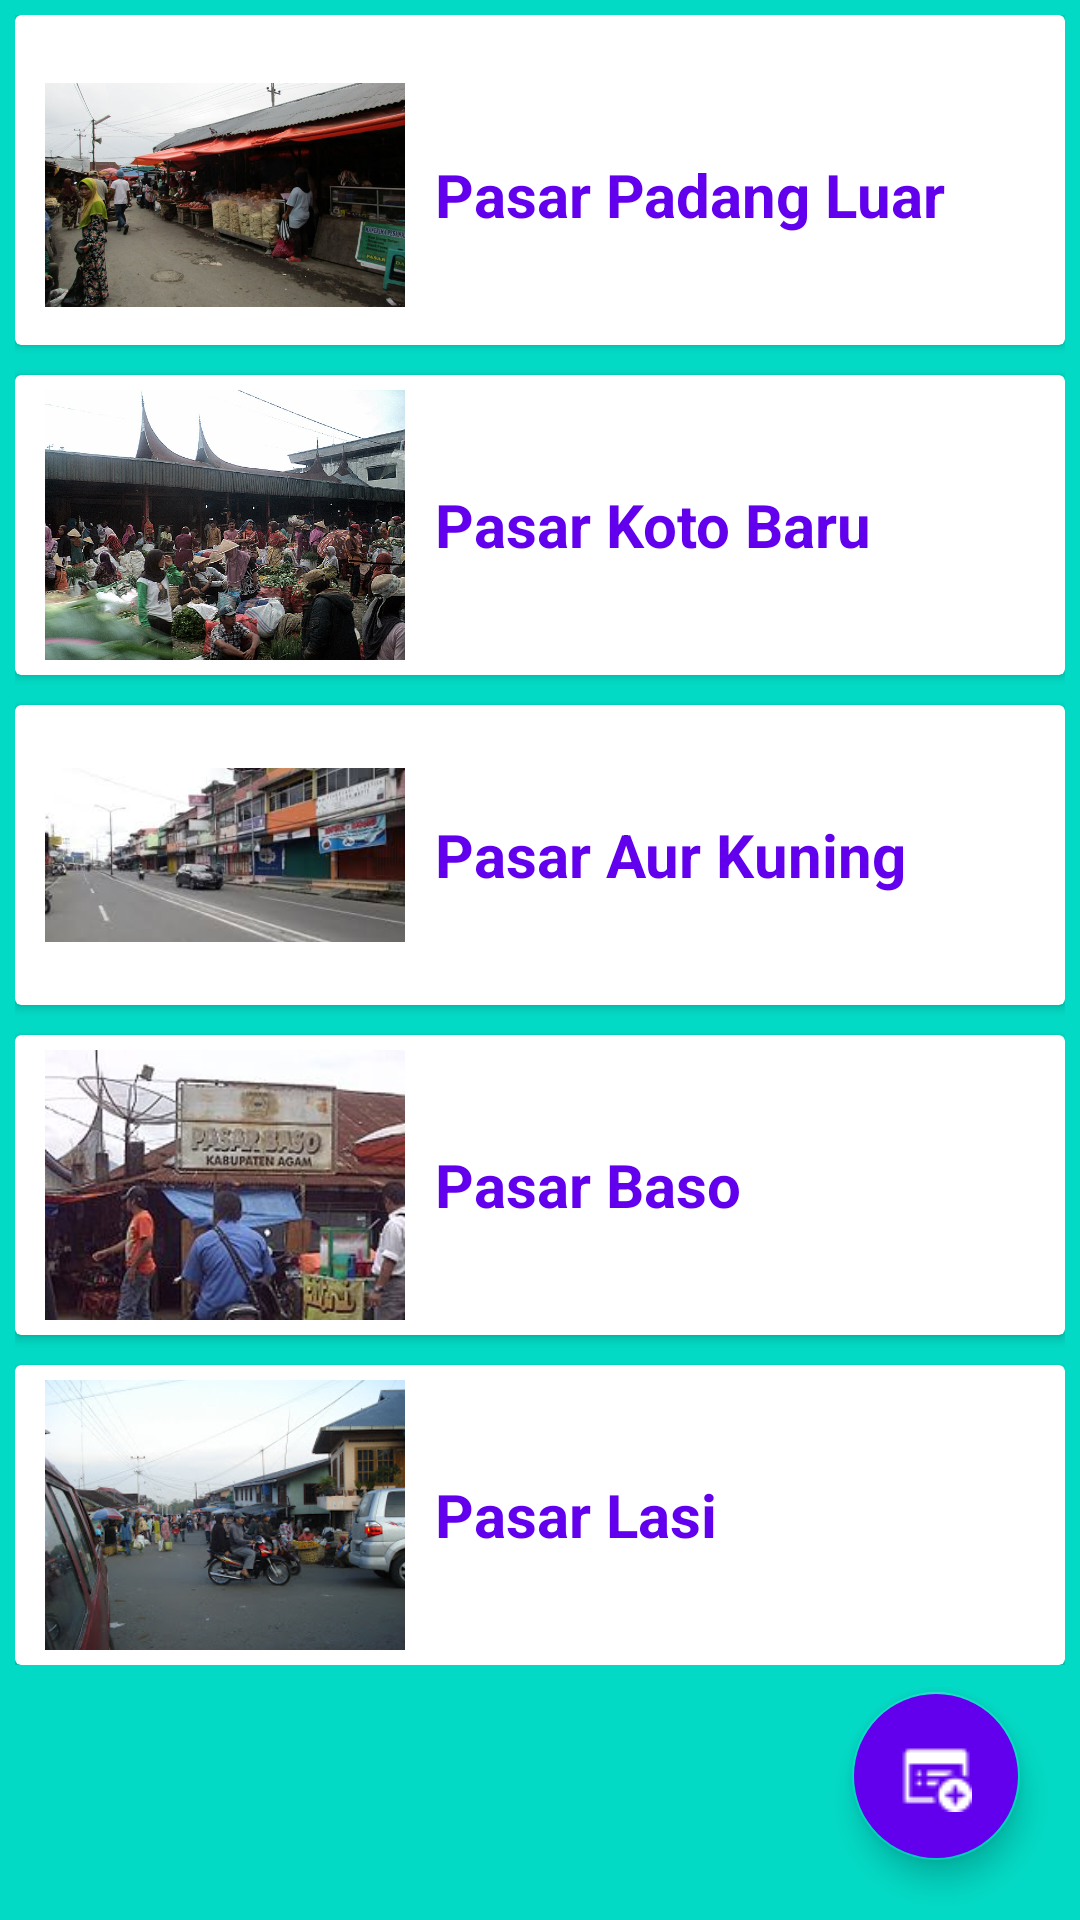

Icon bounding boxes for this 1080×1920 phone screenshot, format [left=x1, top=y1, right=x2, bottom=y2]:
add: [left=854, top=1692, right=1018, bottom=1858]
